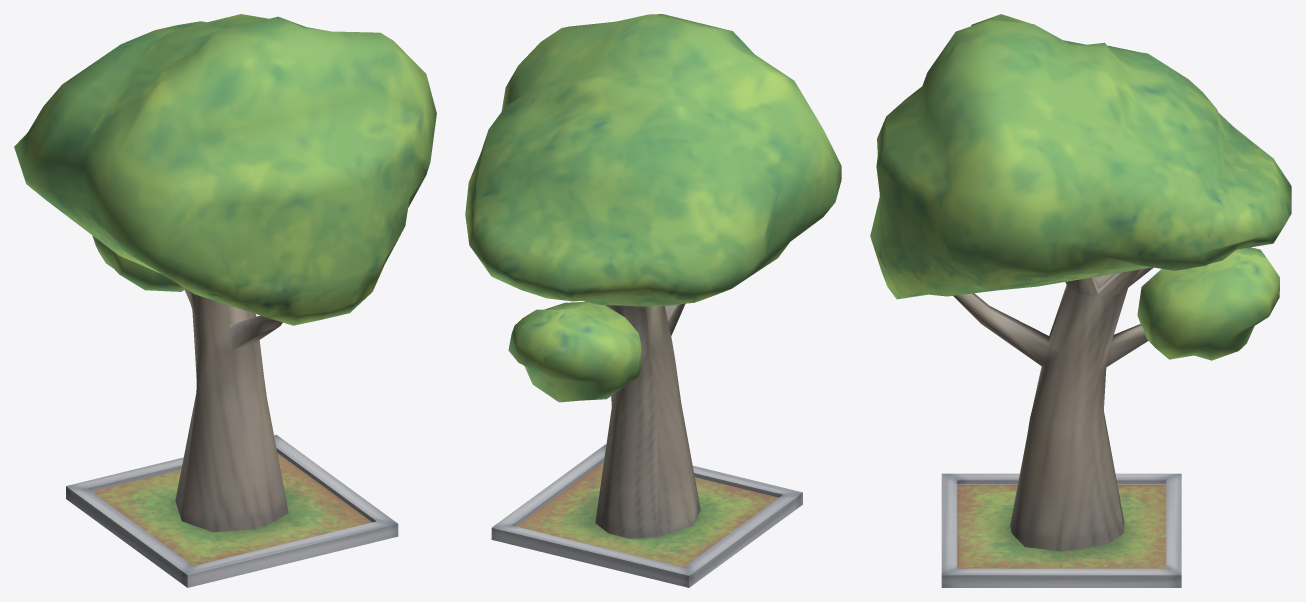
File: Tree_base.glb
The picture shows the model from 3 angles, left to right: view 1: azimuth 30°, elevation 25°; view 2: azimuth 150°, elevation 25°; view 3: azimuth 270°, elevation 25°; orthographic projection. The views are drawn at different scales.
Visible parts, largest first — view 1: Tree_base.001; view 2: Tree_base.001; view 3: Tree_base.001.
Boxes of the visible parts, left/top/right/bottom form: Tree_base.001: left=14, top=14, right=436, bottom=587; Tree_base.001: left=465, top=14, right=841, bottom=587; Tree_base.001: left=870, top=14, right=1291, bottom=587.
Size of the model in its own units: 3.2 by 4.67 by 3.57.
Materials: 1 (1 with a texture image).
